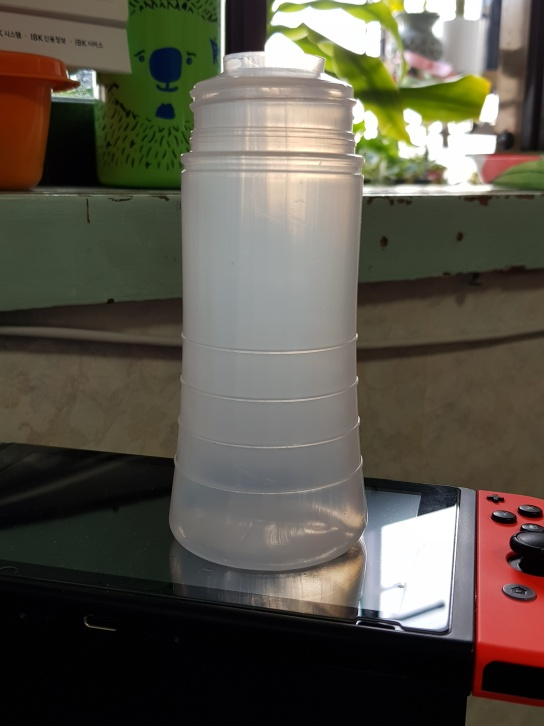Plastic: (170, 48, 373, 580)
